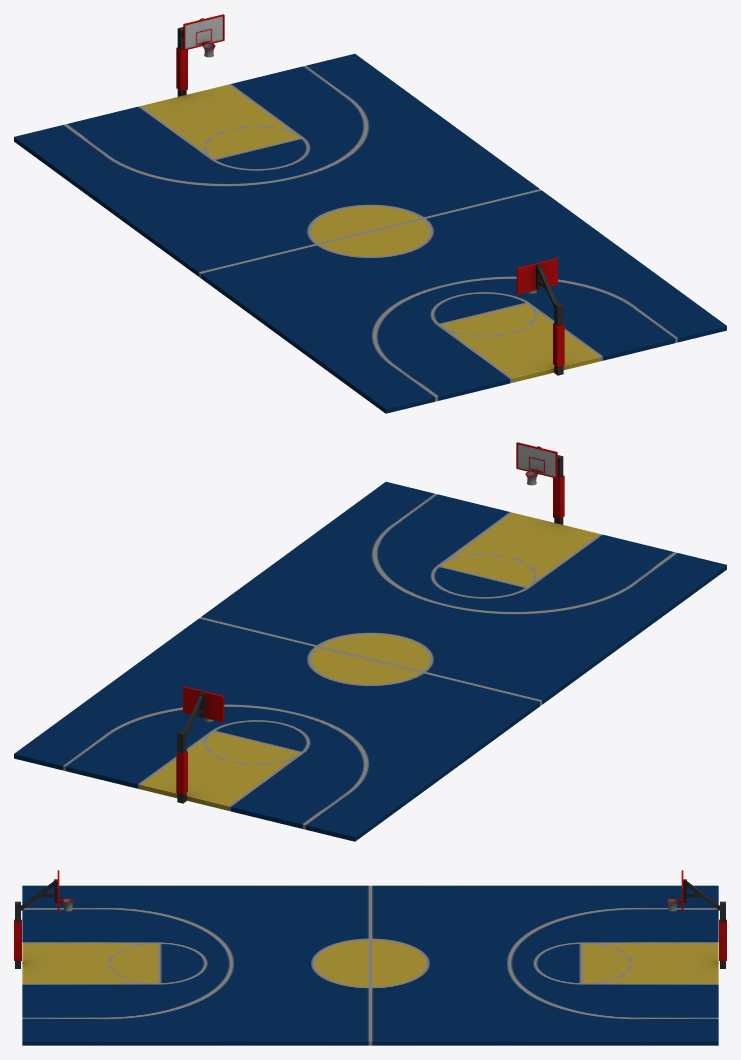
The model's file is Basketball court.glb.
The picture shows the model from 3 angles, top to bottom: view 1: azimuth 30°, elevation 25°; view 2: azimuth 150°, elevation 25°; view 3: azimuth 270°, elevation 25°; orthographic projection. The views are drawn at different scales.
Parts seen in each view (by area): view 1: BasketBallCourt_Mesh; view 2: BasketBallCourt_Mesh; view 3: BasketBallCourt_Mesh.
Part boxes in pixels (left/top/right/bottom): BasketBallCourt_Mesh: left=14, top=14, right=726, bottom=413; BasketBallCourt_Mesh: left=14, top=442, right=726, bottom=841; BasketBallCourt_Mesh: left=14, top=870, right=726, bottom=1045.
Size of the model in its own units: 15.2 by 4.03 by 29.4.
Materials: 1 (1 with a texture image).
